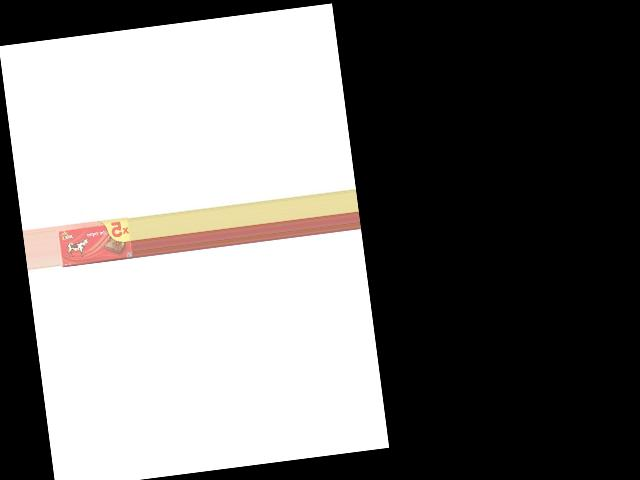chocolate: (54, 215, 132, 267)
